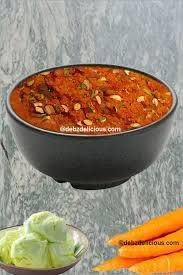Gajar ka halwa: (6, 66, 182, 186)
